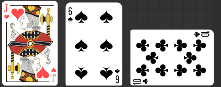10C: (192, 30, 210, 38), (132, 77, 149, 85)
6C: (66, 5, 74, 23)
